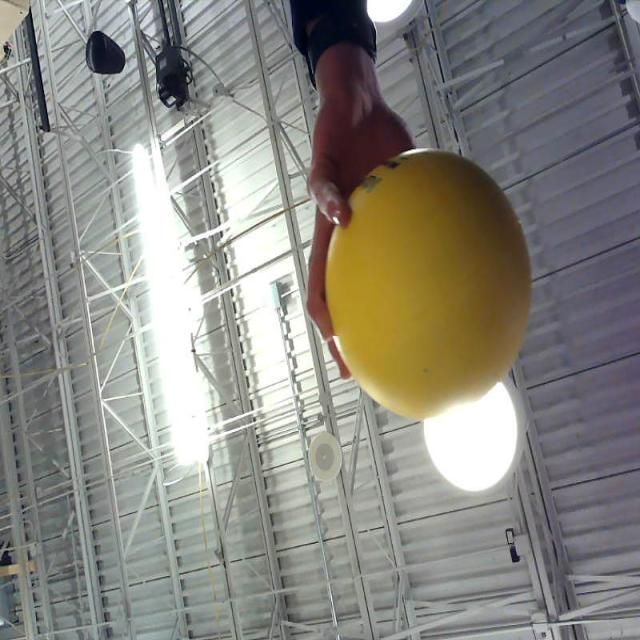Fuel: (324, 147, 532, 421)
